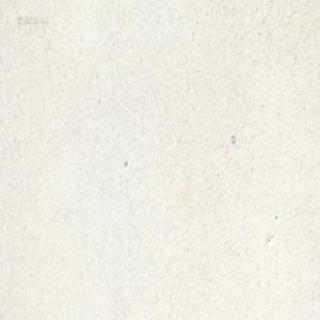Washertrack_idkeyframe: (229, 132, 235, 143)
